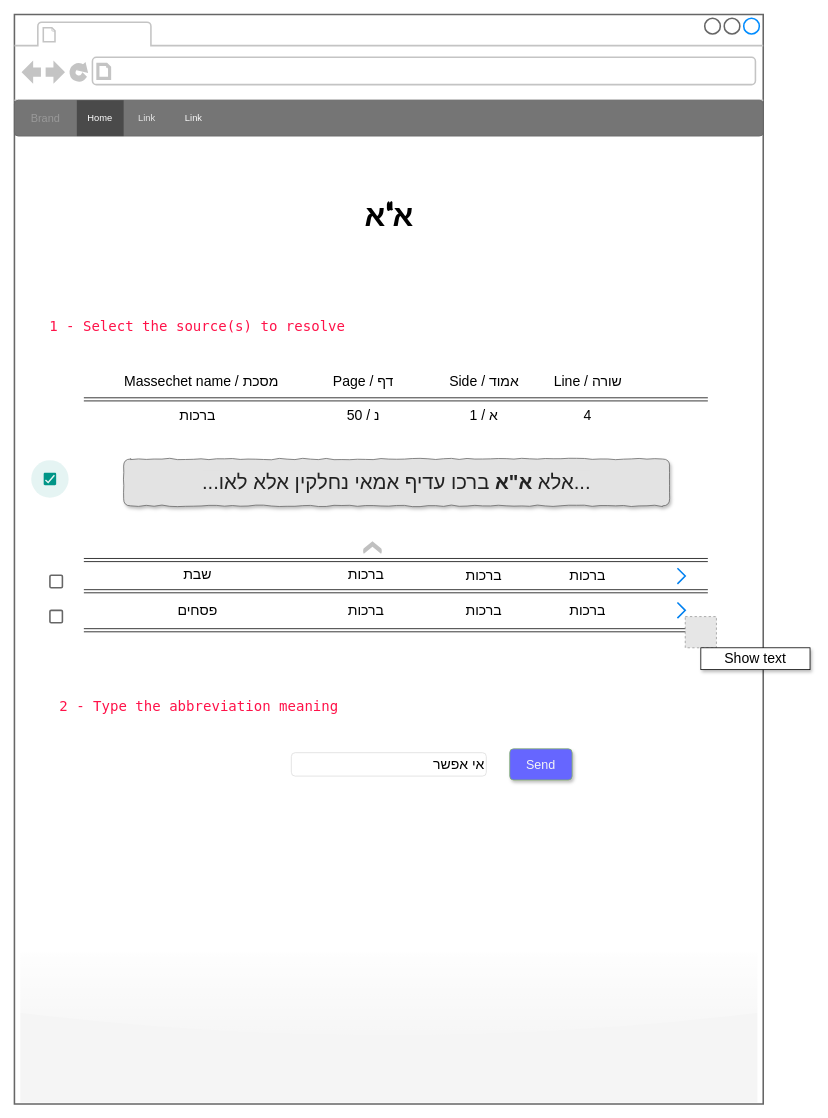
Image size: 828x1118. Some labels were removed from this diagram. Grey dashed boxes stand in for pictures. Each missing label, with the centre of its shape:
https://www.bone-yerushalayim.co.il: the point at 213,71
Page 1: the point at 103,33
